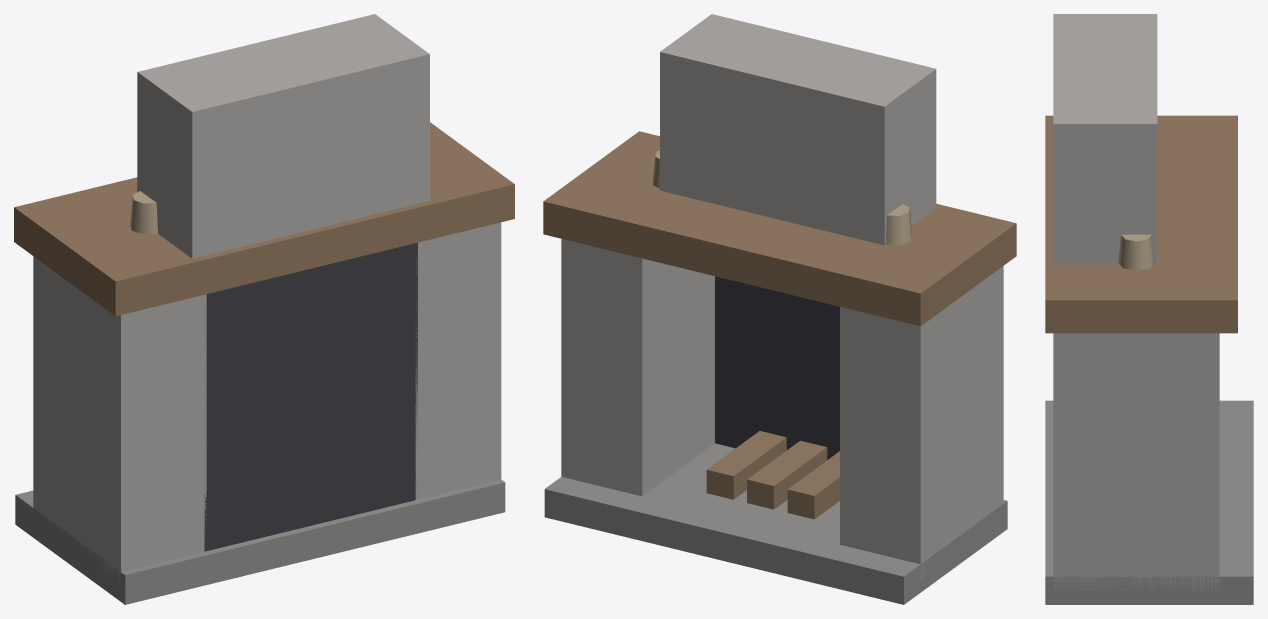
The model's file is hearth.glb.
3 views of the same model, side by side, from view 1: azimuth 30°, elevation 25°; view 2: azimuth 150°, elevation 25°; view 3: azimuth 270°, elevation 25° (orthographic). The views are drawn at different scales.
Visible parts, largest first — view 1: hearth; view 2: hearth; view 3: hearth.
Boxes of the visible parts, x1=… form: hearth: x1=14, y1=14, x2=514, y2=604; hearth: x1=543, y1=14, x2=1016, y2=604; hearth: x1=1045, y1=14, x2=1253, y2=604.
Size of the model in its own units: 1.68 by 1.9 by 0.8.
